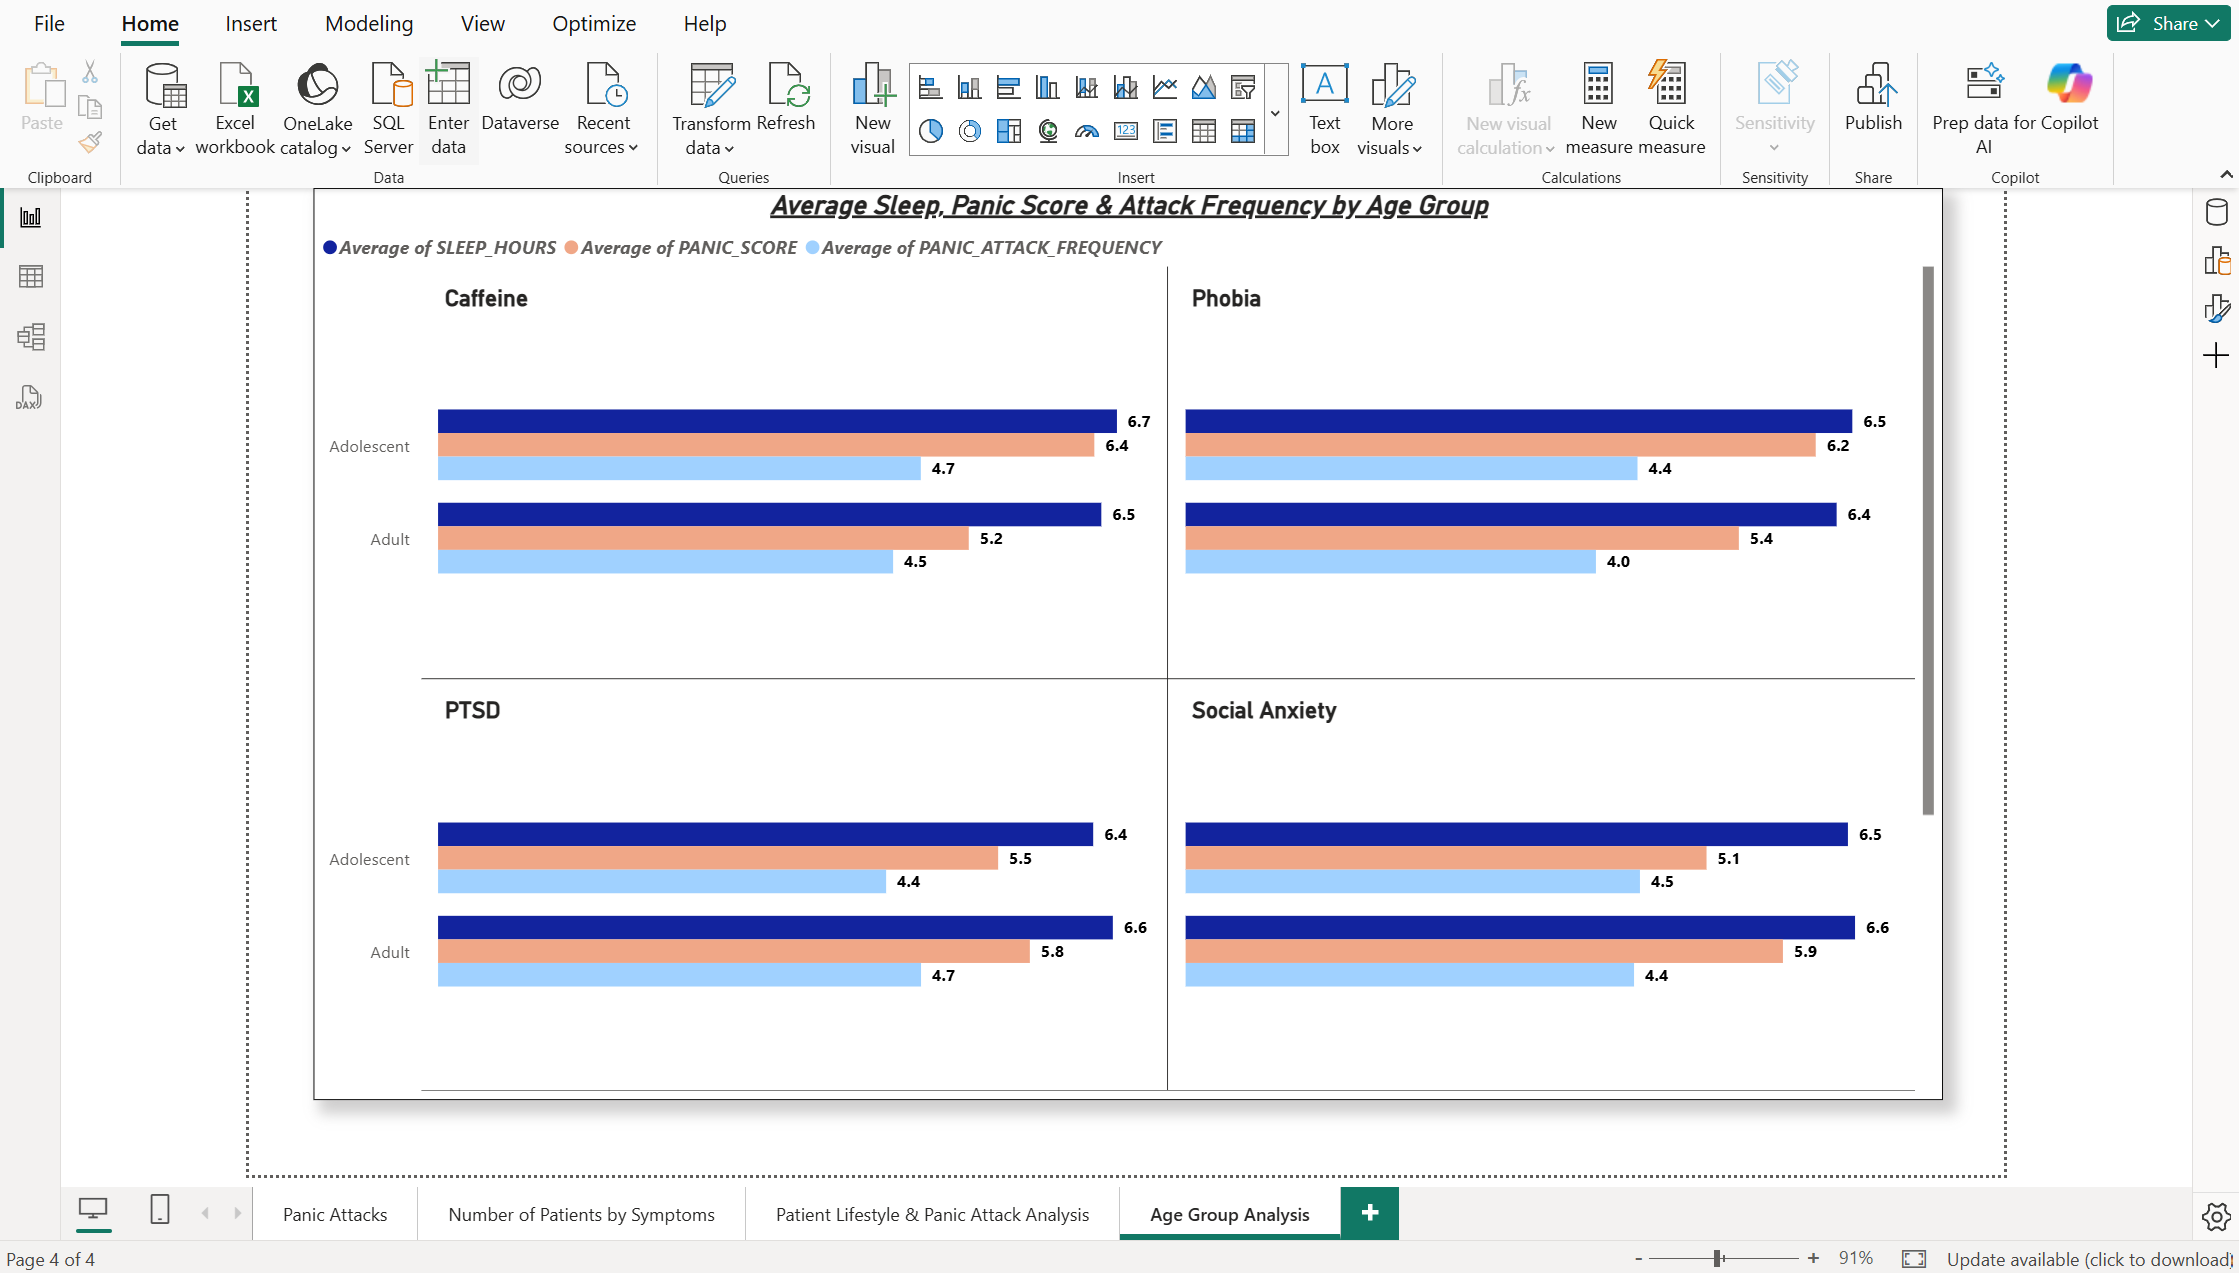

What the dashboard file says about the page in this screenshot:
{"tool":"powerbi","page":{"name":"Age Group Analysis","canvas":[1280,720],"ordinal":3},"visuals":[{"type":"clusteredBarChart","title":"Average Sleep, Panic Score & Attack Frequency by Age Group","fields":{"Category":["PANIC_ATTACK_DATA.Age Group"],"Rows":["PANIC_ATTACK_DATA.TRIGGER_REASON"],"Y":["Avg(PANIC_ATTACK_DATA.SLEEP_HOURS)","Avg(PANIC_ATTACK_DATA.PANIC_SCORE)","Avg(PANIC_ATTACK_DATA.PANIC_ATTACK_FREQUENCY)"]},"box":[46.7,0,1188.3,665],"z":0}]}

Visuals, with their boxes on the page's 1280x720 design canvas (x1, y1, x2, y2). These are canvas units, not pixel positions in the 2239x1273 screenshot, which may show the page scaled, cropped or inside an application window:
"Average Sleep, Panic Score & Attack Frequency by Age Group" clusteredBarChart: region(47, 0, 1235, 665)
